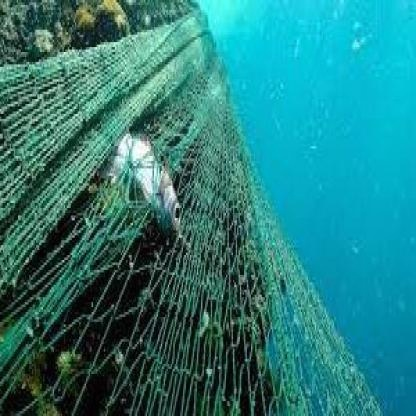net: (2, 34, 346, 414)
